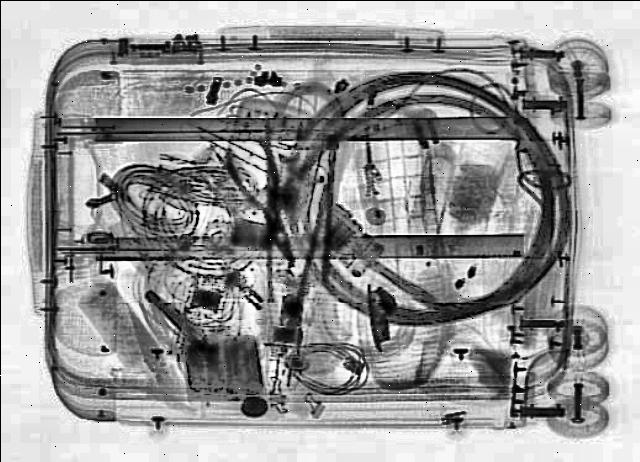Pliers: (214, 139, 316, 267)
